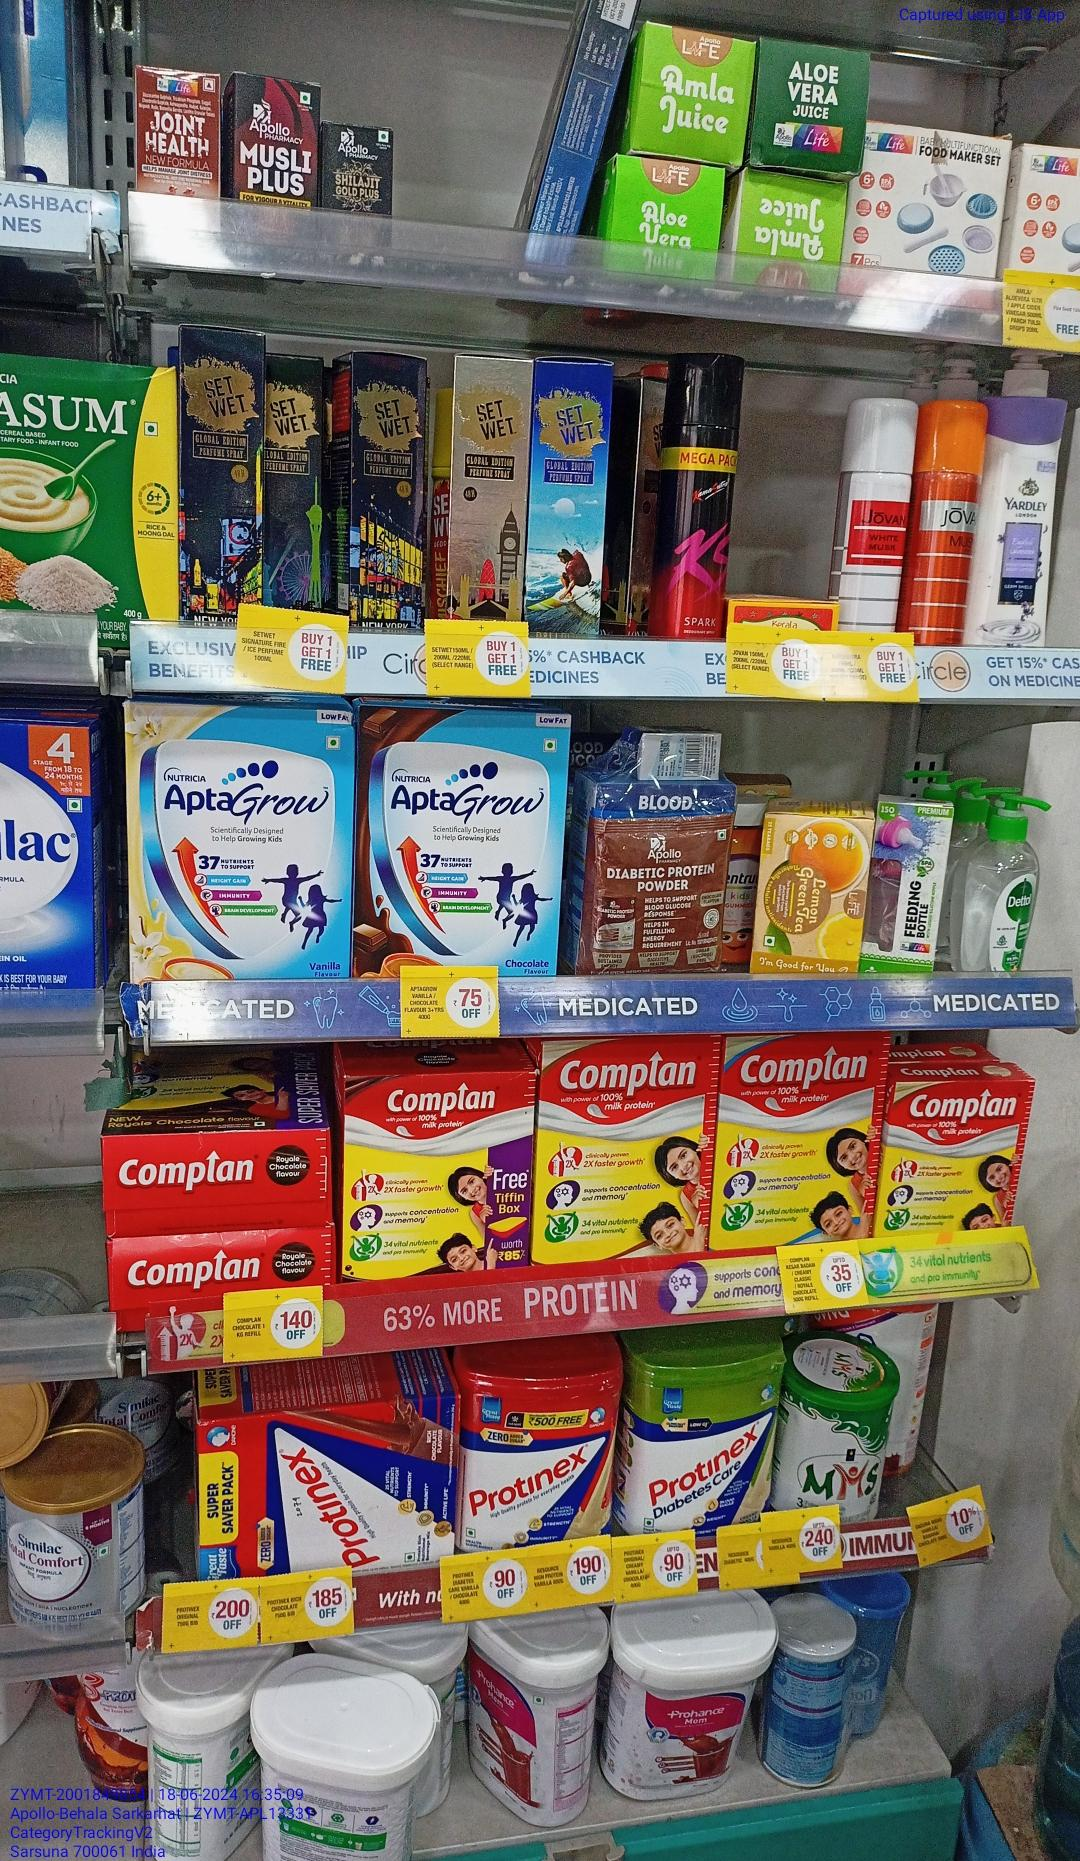COMPLAN_CHOCOLATE_500_GMS_PACK: (343, 1072, 525, 1275)
COMPLAN_CREAMY_CLASSIC_500_G_PACK: (719, 1036, 876, 1238)
COMPLAN_KESAR_BADAM_500_GMS_PACK: (537, 1036, 714, 1252), (885, 1081, 1025, 1233)
PROTINEX_VANILLA_400_G_JAR: (458, 1373, 615, 1540)
